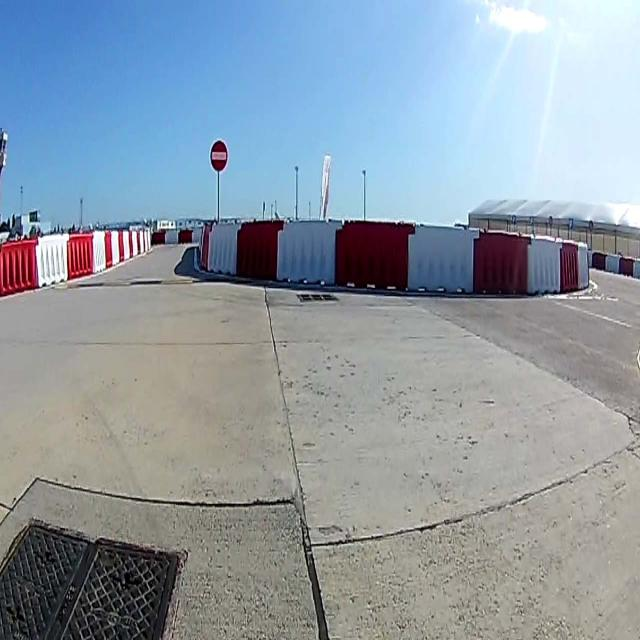girisyok: (209, 140, 227, 172)
